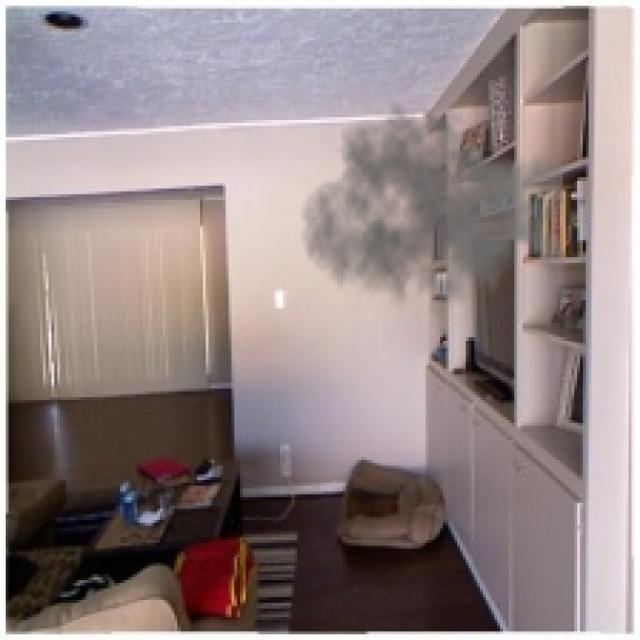Smoke: (300, 100, 563, 332)
